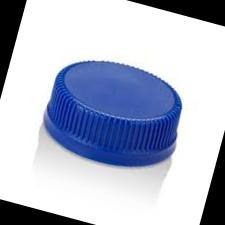Plastik: (42, 61, 182, 168)
